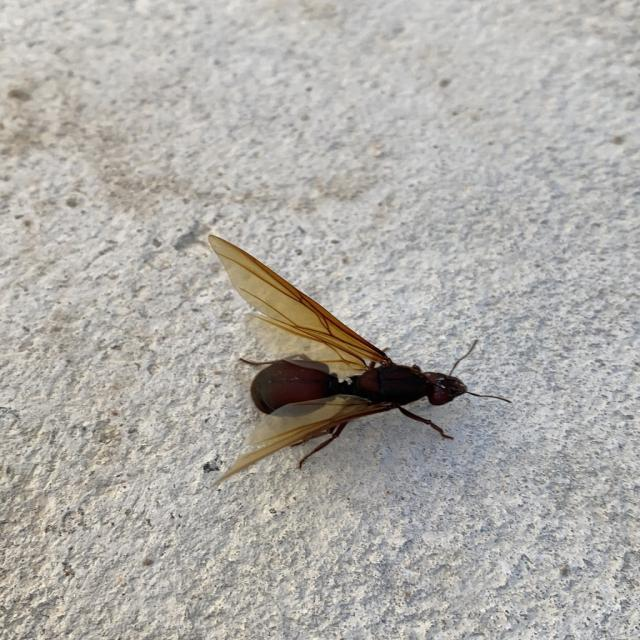Alive-Female-Alate: (207, 234, 513, 490)
